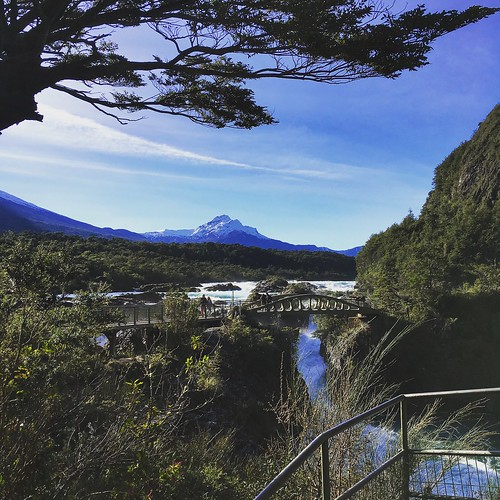bridge: (244, 274, 381, 335)
mountain: (357, 113, 500, 423), (117, 199, 356, 257)
sky: (17, 20, 500, 232)
tree: (1, 1, 492, 138)
vegetation: (11, 315, 312, 500), (7, 242, 353, 287)
